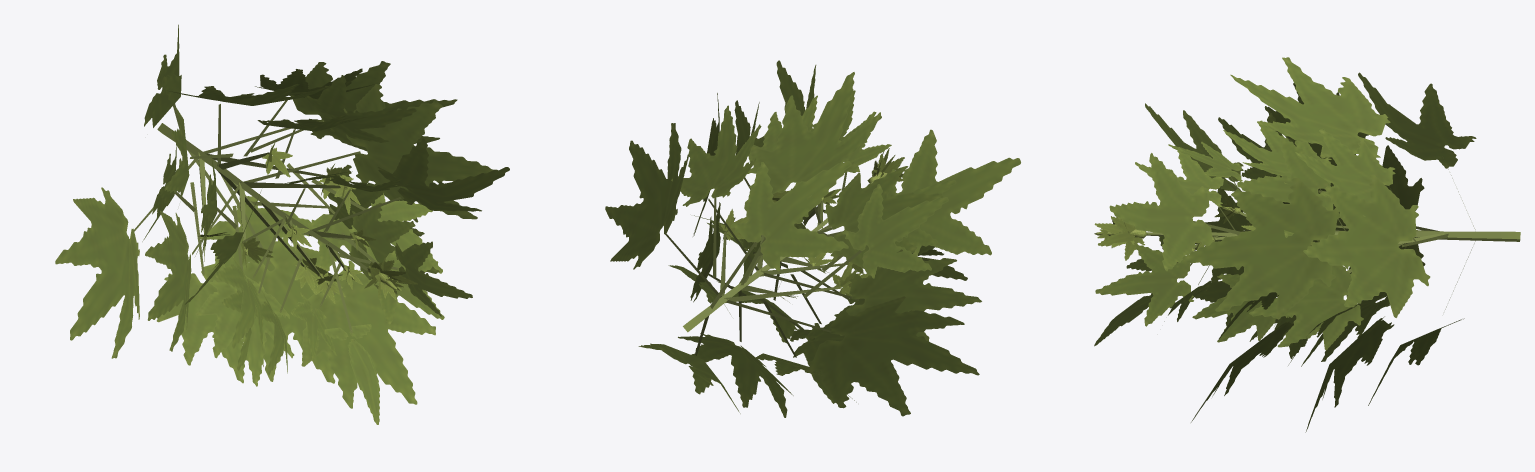
File: p_tree_preflower_c1_cards.obj
3 renders of one model, left to right at view 1: azimuth 30°, elevation 25°; view 2: azimuth 150°, elevation 25°; view 3: azimuth 270°, elevation 25°, orthographic. The views are drawn at different scales.
Size of the model in its own units: 1.56 by 1.3 by 1.33.
1 material, 1 textured.
